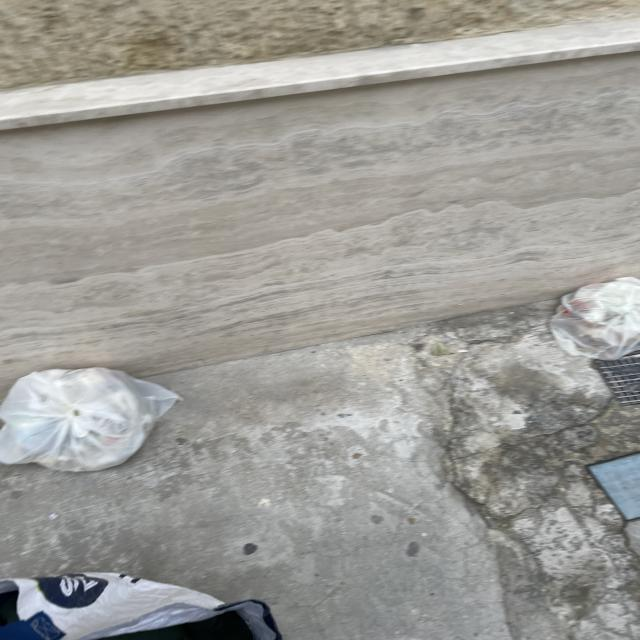white_bag: (0, 363, 187, 486), (542, 270, 640, 370)
